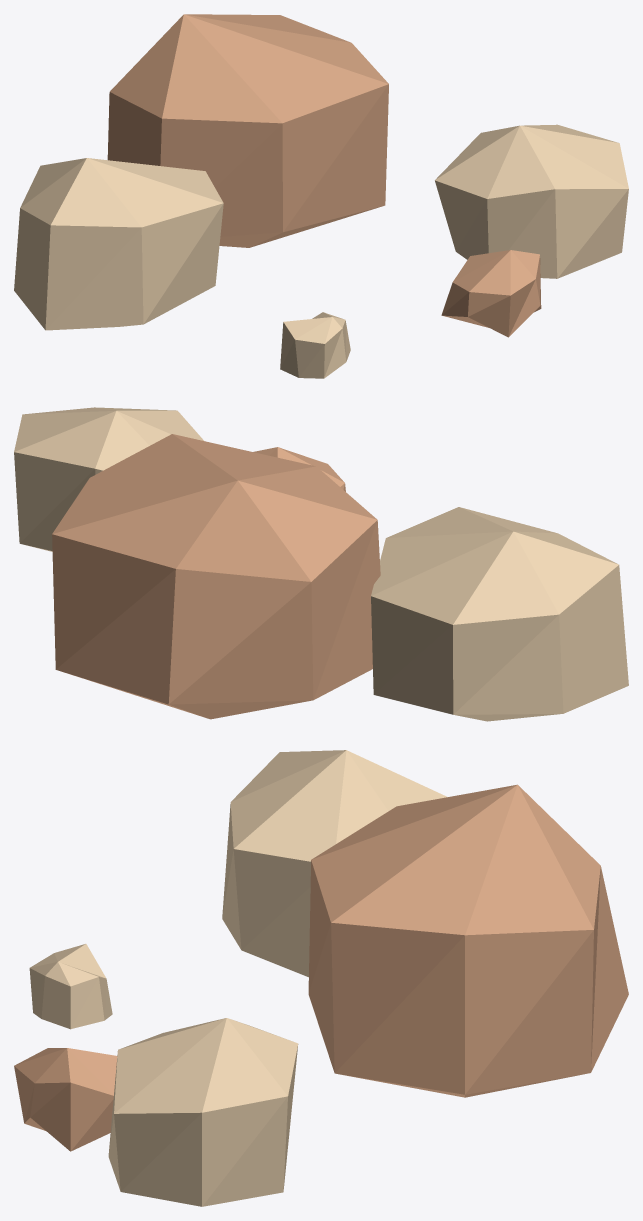
The model's file is canyon-rubble.glb.
3 renders of one model, top to bottom at view 1: azimuth 30°, elevation 25°; view 2: azimuth 150°, elevation 25°; view 3: azimuth 270°, elevation 25°, orthographic. The views are drawn at different scales.
Size of the model in its own units: 5.97 by 2.4 by 4.68.
